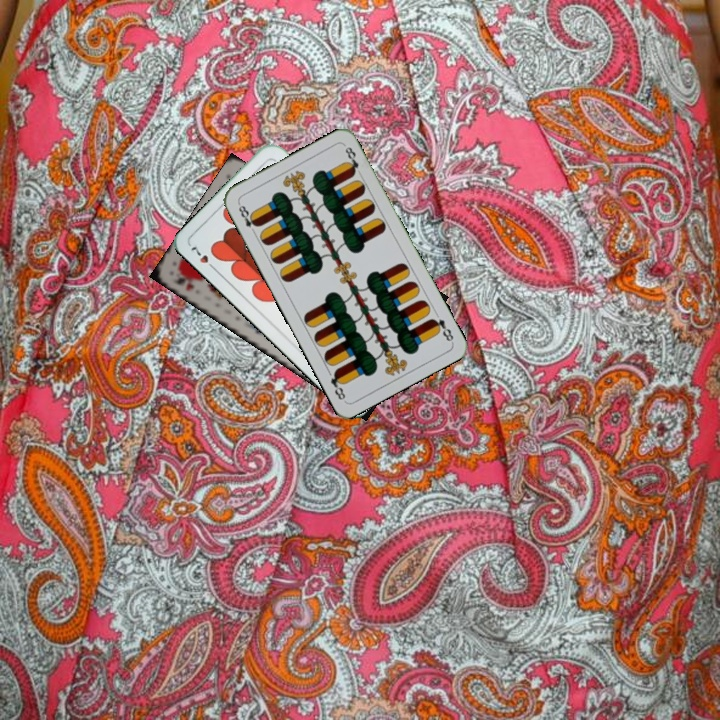E8: (234, 199, 261, 237), (427, 314, 456, 345)
H7: (186, 242, 219, 273)
HK: (170, 272, 197, 293)
